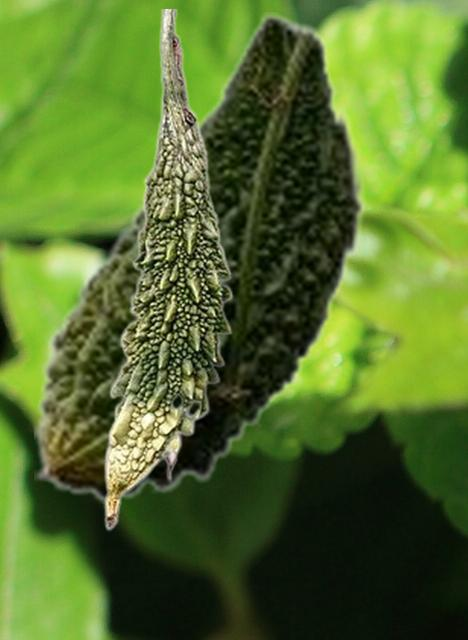ampalaya: (34, 12, 366, 502), (103, 9, 233, 531)
